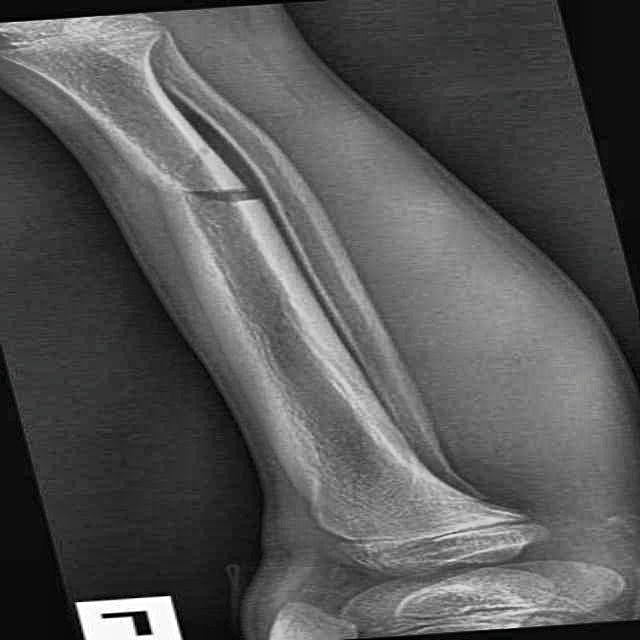Greenstick: (122, 149, 289, 223)
